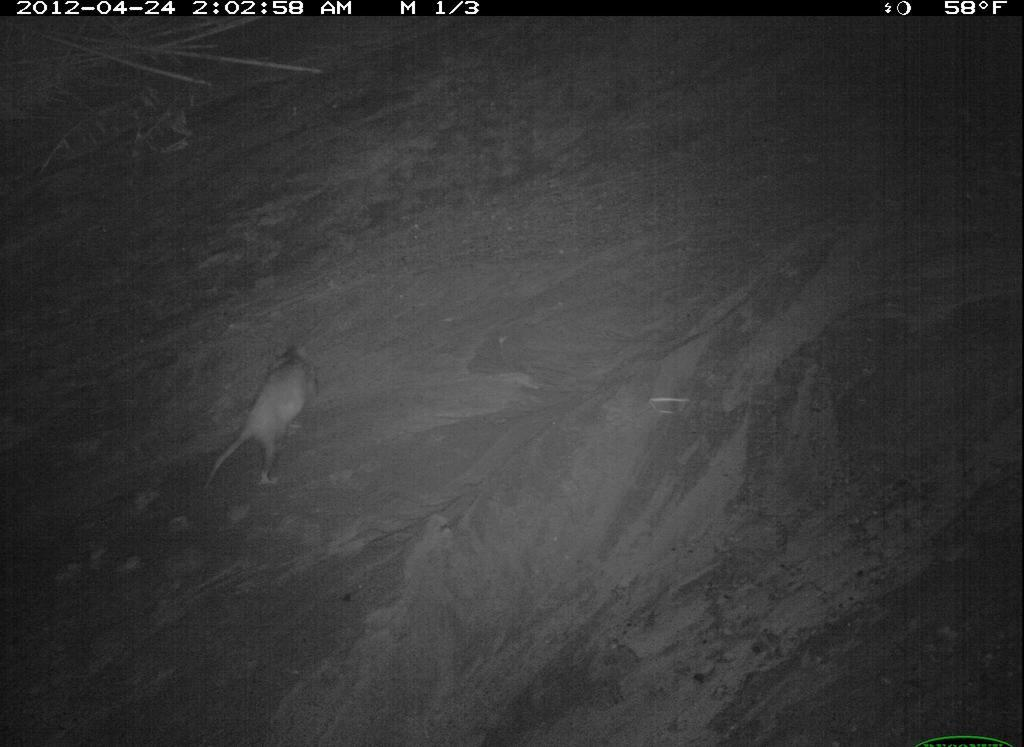opossum: (396, 679, 645, 747)
